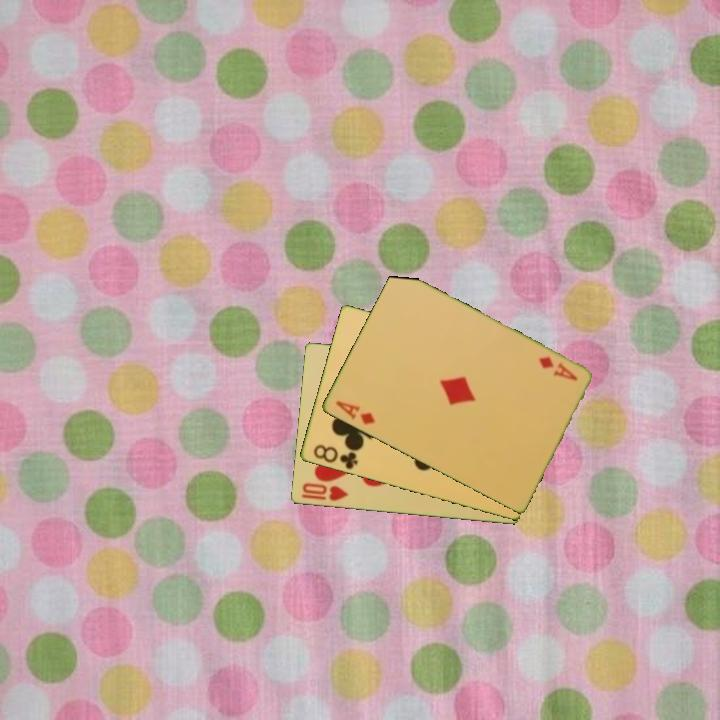10h: (298, 479, 351, 504)
8c: (309, 441, 360, 473)
Ad: (332, 397, 378, 428), (534, 353, 580, 384)
